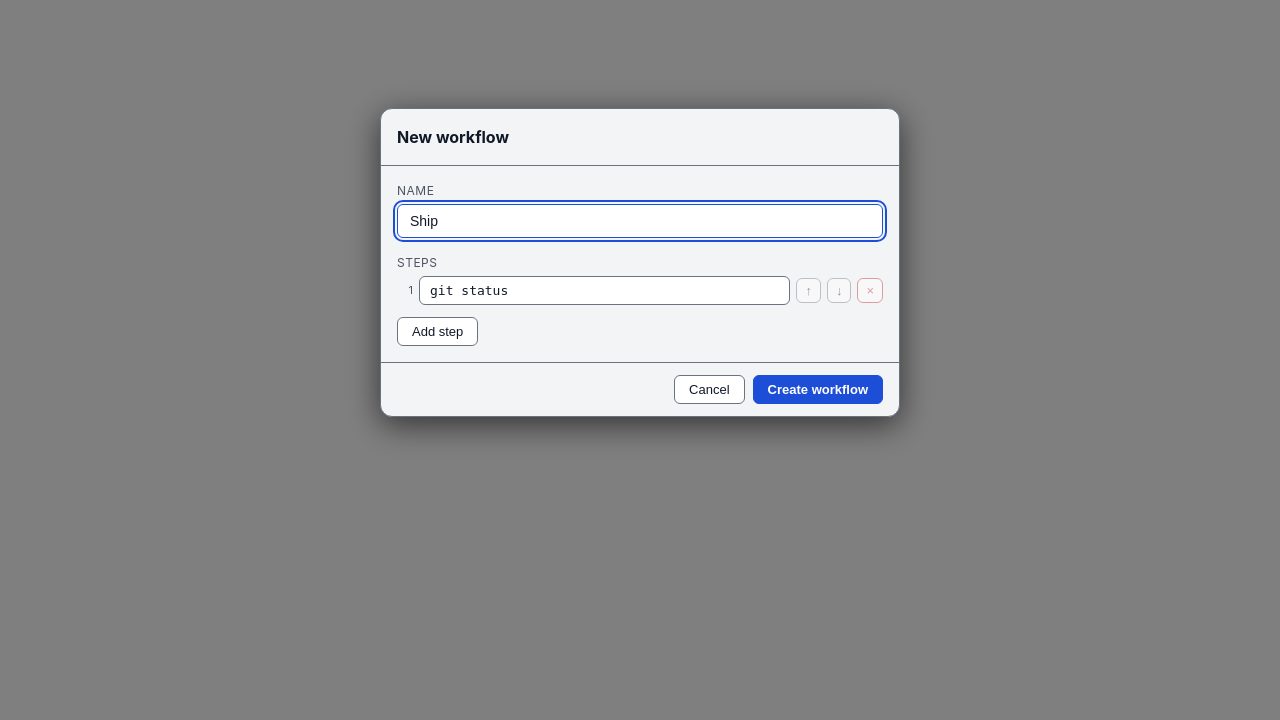
Test: WorkflowEditor › refuses a blank name or a blank step
Step 1. Clear the field showing "Ship" → point(640, 221), box top-left (397, 204), bottom-right (883, 238)
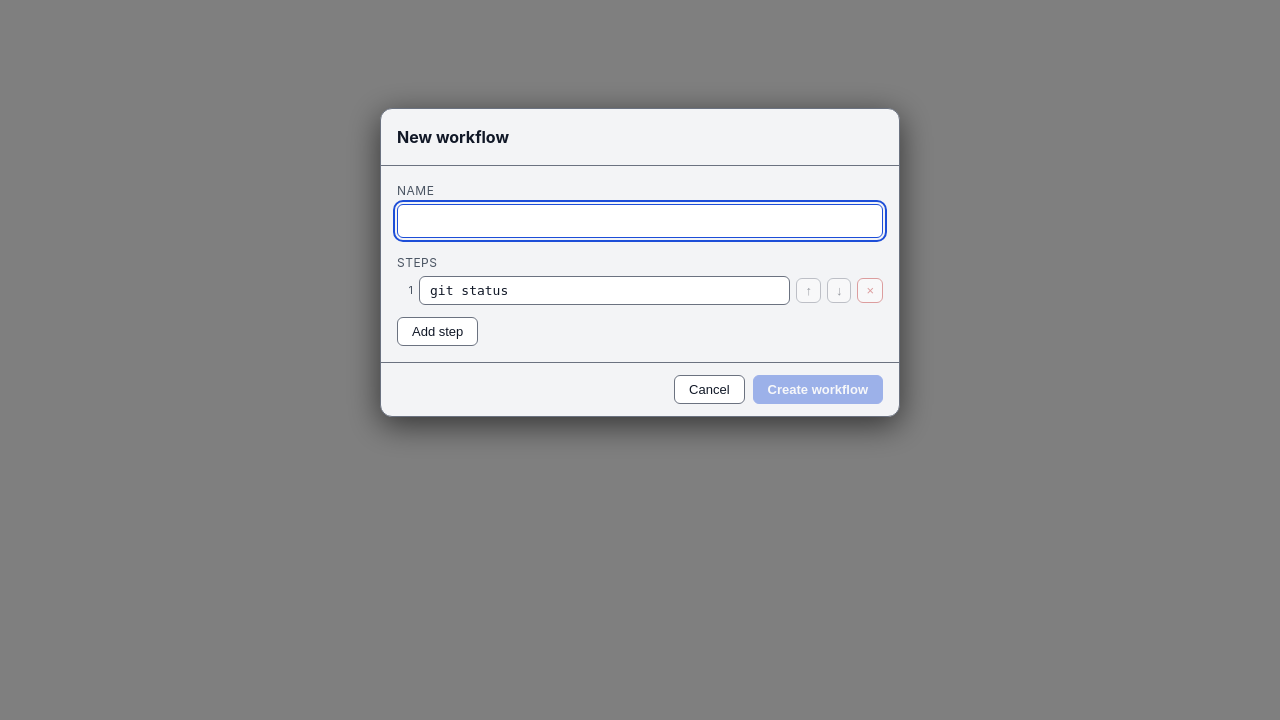
Result: the button "Create workflow" is disabled at top-left (753, 375), bottom-right (883, 404)
Step 2. Type "Named" into the field labelled "Name" → point(640, 221), box top-left (397, 204), bottom-right (883, 238)
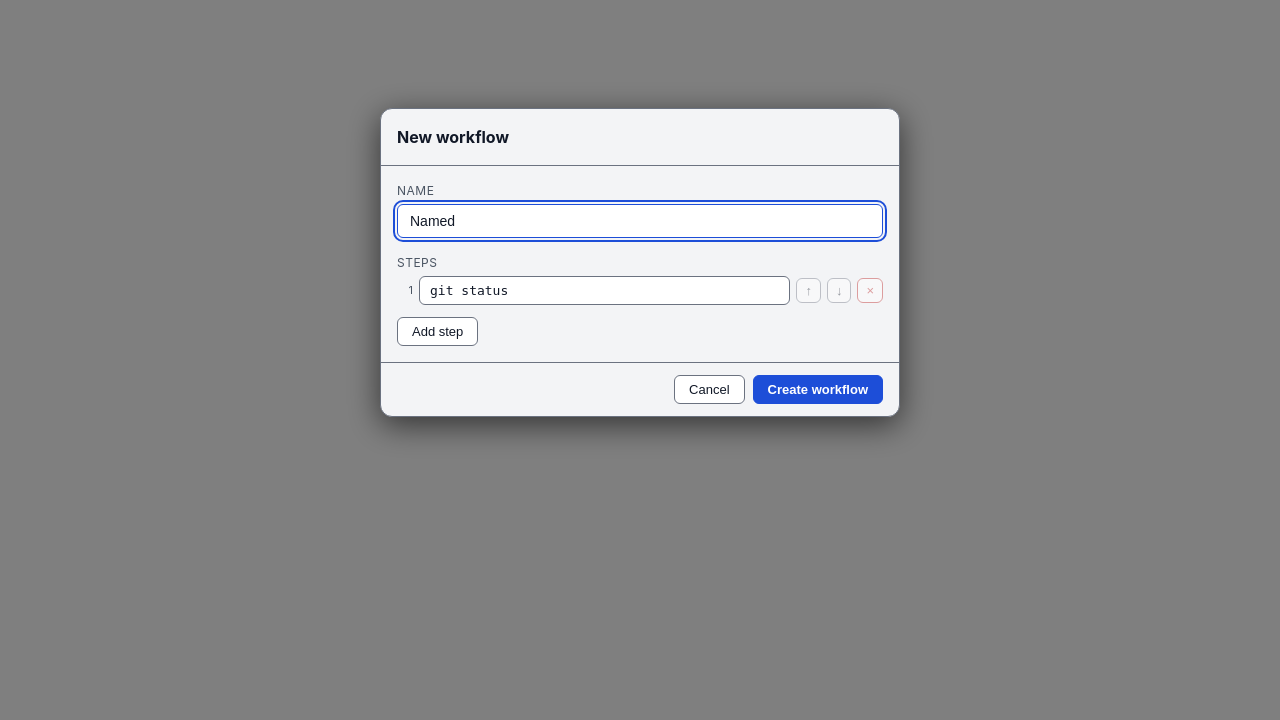
Step 3. Clear the field showing "git status" → point(605, 290), box top-left (419, 276), bottom-right (790, 305)
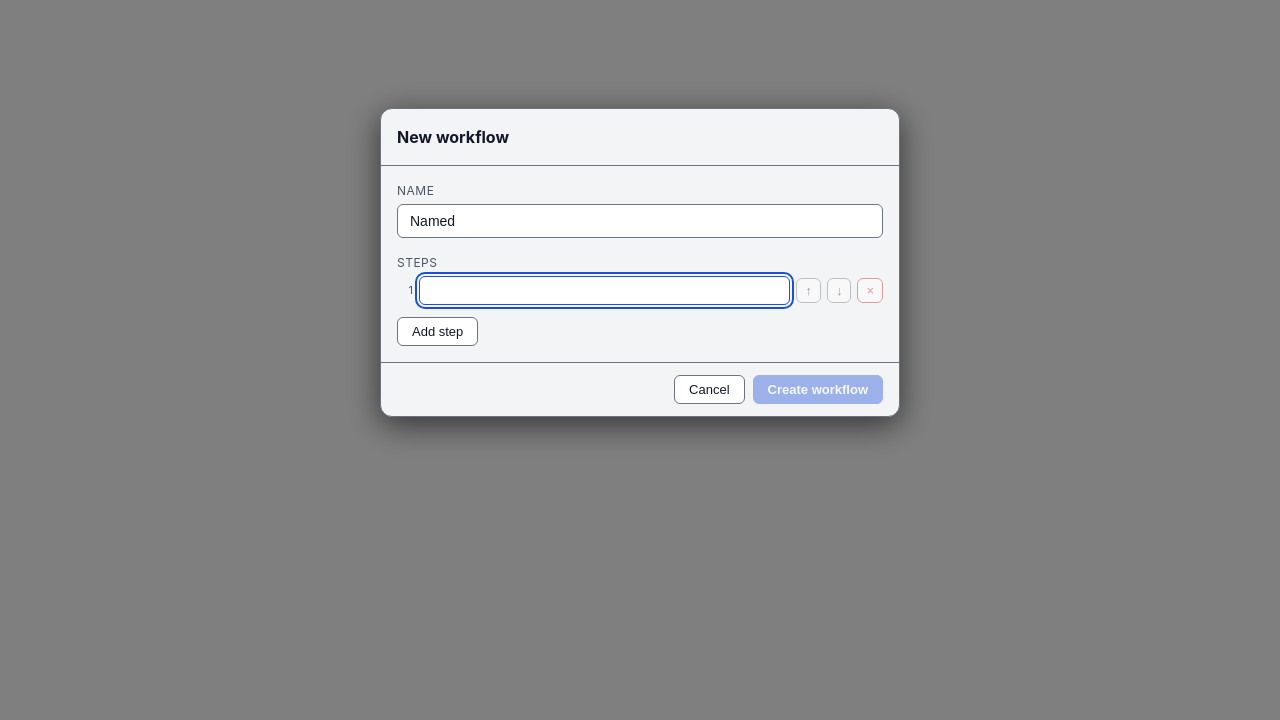
Result: the button "Create workflow" is disabled at top-left (753, 375), bottom-right (883, 404)
